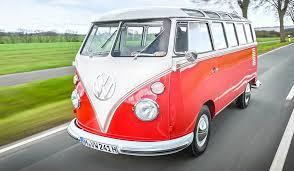volkswagen: (90, 71, 117, 101)
